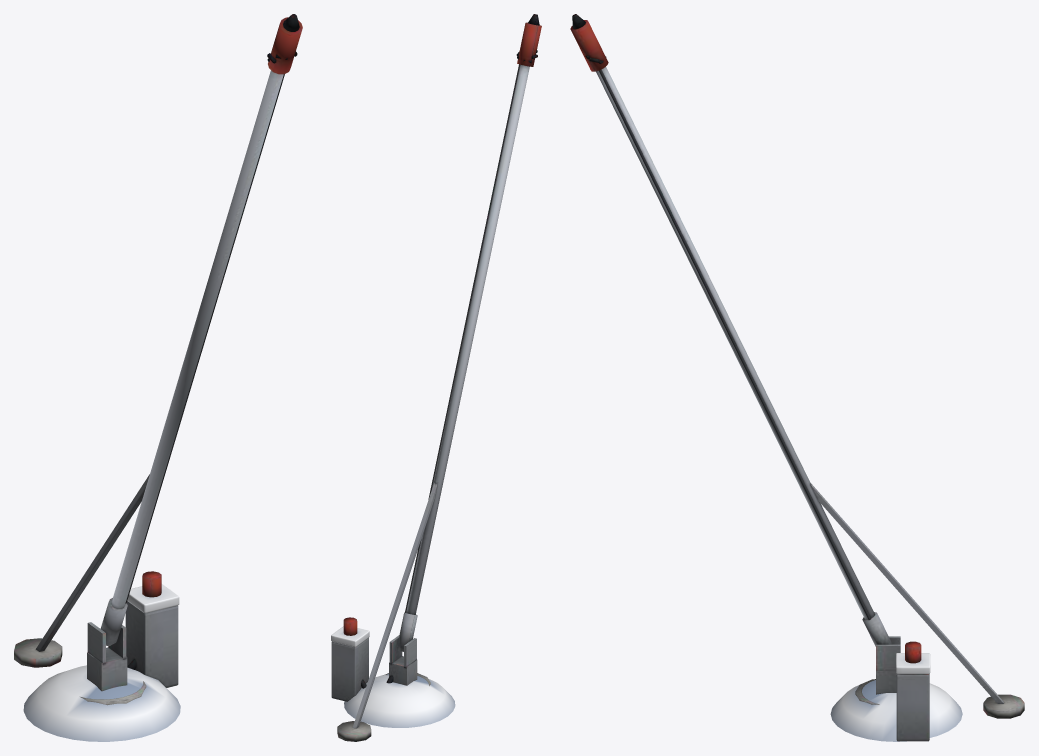
Rendered from snow_gun_pole.glb.
The picture shows the model from 3 angles, left to right: view 1: azimuth 30°, elevation 25°; view 2: azimuth 150°, elevation 25°; view 3: azimuth 270°, elevation 25°; orthographic projection. The views are drawn at different scales.
Visible parts, largest first — view 1: snow_gun_pole, snow_gun_pole_snow; view 2: snow_gun_pole, snow_gun_pole_snow; view 3: snow_gun_pole, snow_gun_pole_snow.
Part boxes in pixels (x1,y1,x2,y2): snow_gun_pole: (14, 14, 302, 705); snow_gun_pole_snow: (23, 584, 180, 741); snow_gun_pole: (331, 14, 541, 741); snow_gun_pole_snow: (331, 626, 455, 727); snow_gun_pole: (570, 14, 1024, 741); snow_gun_pole_snow: (830, 653, 962, 741).
Bounding box in the file's own units: 1.71 × 9.6 × 5.5.
2 materials, 1 textured.
